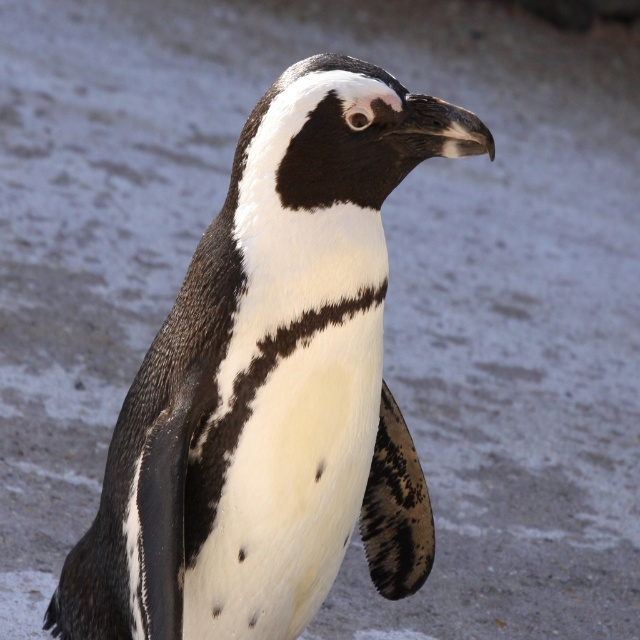Penguin: (28, 47, 498, 640)
